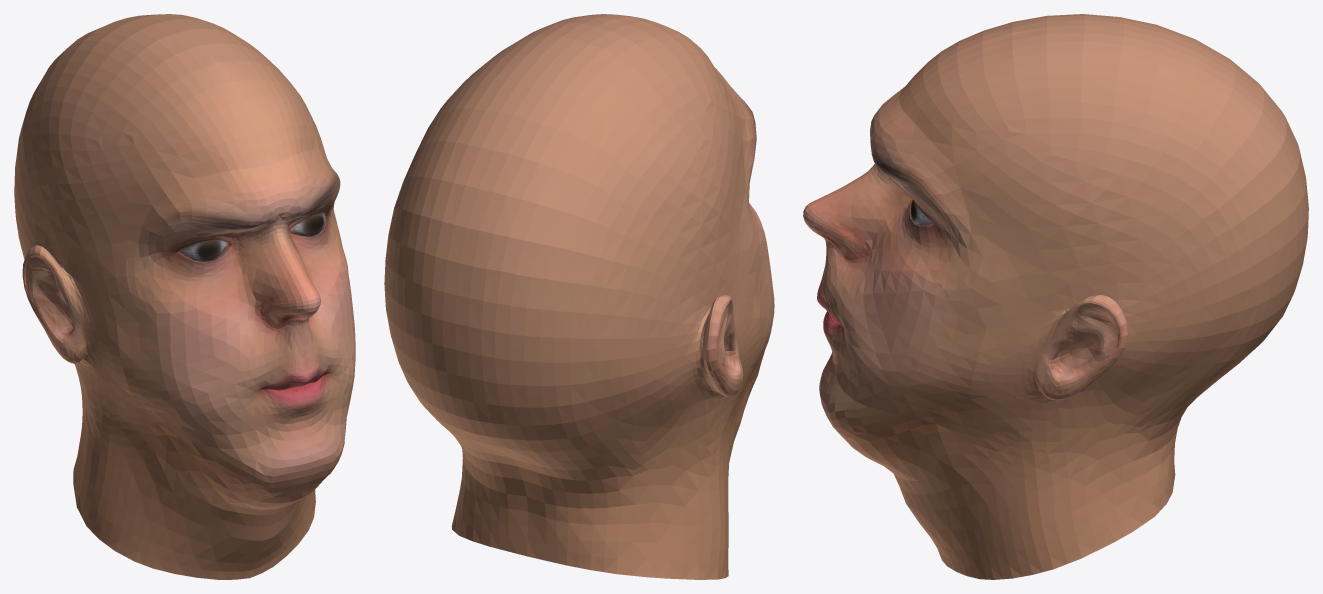
The model's file is NARROW_BETTER.obj.
3 renders of one model, left to right at view 1: azimuth 30°, elevation 25°; view 2: azimuth 150°, elevation 25°; view 3: azimuth 270°, elevation 25°, orthographic. The views are drawn at different scales.
Visible parts, largest first — view 1: skin_hi, eyeR_hi, eyeL_hi; view 2: skin_hi; view 3: skin_hi.
Part boxes in pixels (x1,y1,x2,y2): skin_hi: (14, 14, 355, 579); eyeR_hi: (179, 239, 228, 261); eyeL_hi: (289, 212, 324, 236); skin_hi: (384, 14, 774, 579); skin_hi: (803, 14, 1308, 579).
Size of the model in its own units: 166 by 277 by 240.
Materials: 7 (7 with a texture image).
